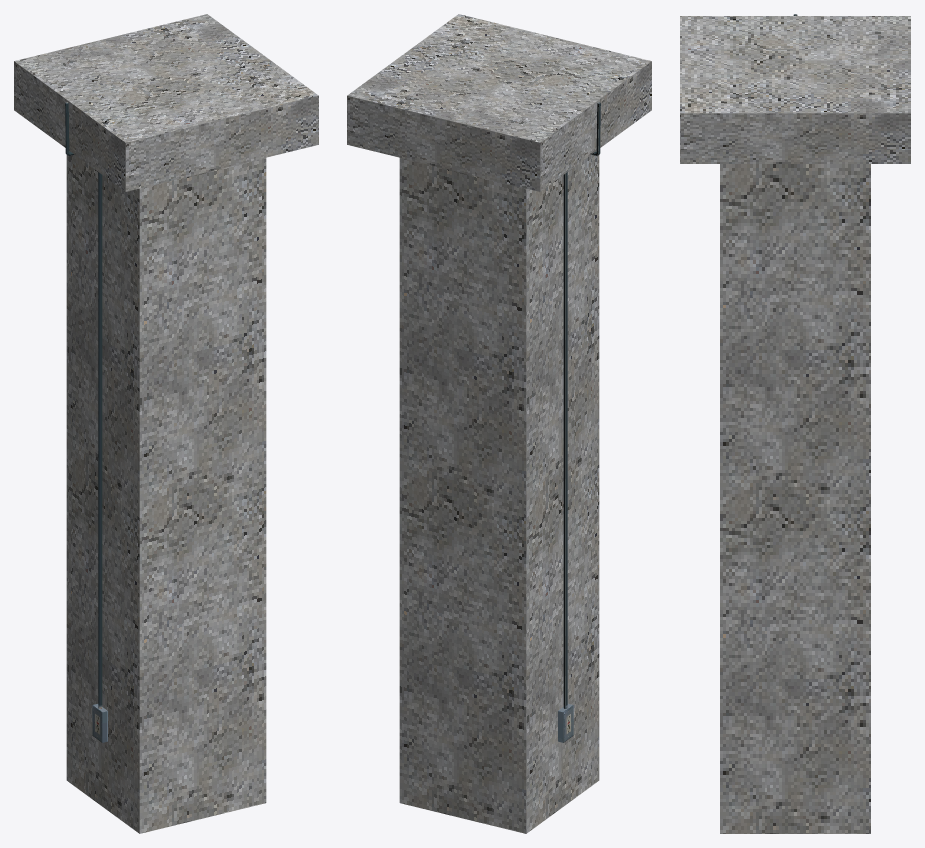
File: CONCPILLAR.glb
The picture shows the model from 3 angles, left to right: view 1: azimuth 30°, elevation 25°; view 2: azimuth 150°, elevation 25°; view 3: azimuth 270°, elevation 25°; orthographic projection. The views are drawn at different scales.
Visible parts, largest first — view 1: CONCPILAR, Cube; view 2: CONCPILAR, Cube; view 3: CONCPILAR.
Boxes of the visible parts, bbox=[...] form: CONCPILAR: bbox=[14, 14, 318, 833]; Cube: bbox=[65, 102, 107, 742]; CONCPILAR: bbox=[347, 14, 651, 833]; Cube: bbox=[558, 102, 600, 742]; CONCPILAR: bbox=[680, 16, 910, 833].
Size of the model in its own units: 6.68 by 23.03 by 6.53.
Materials: 2 (2 with a texture image).
